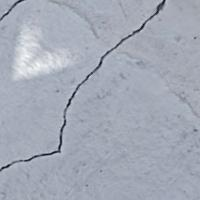crack: (0, 0, 173, 190)
